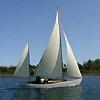Ship: (13, 7, 84, 89)
